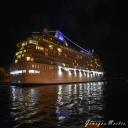cruises: (10, 27, 108, 88)
